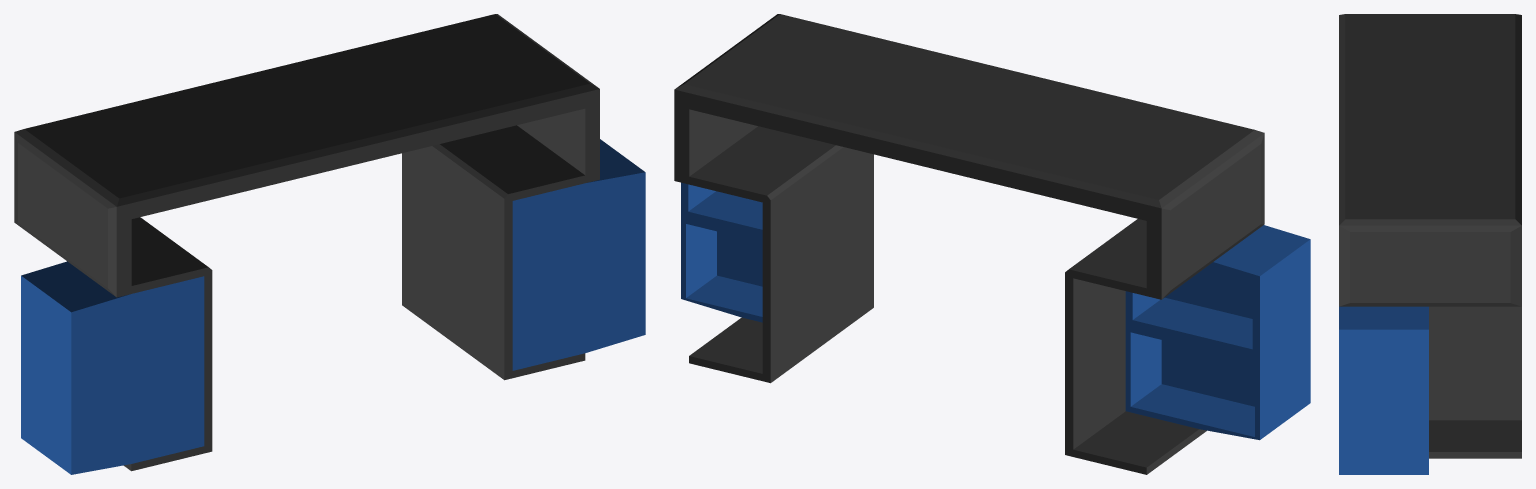
The model's file is Shelf 9.fbx.
The picture shows the model from 3 angles, left to right: view 1: azimuth 30°, elevation 25°; view 2: azimuth 150°, elevation 25°; view 3: azimuth 270°, elevation 25°; orthographic projection. The views are drawn at different scales.
Visible parts, largest first — view 1: Node 0; view 2: Node 0; view 3: Node 0.
Boxes of the visible parts, box(x1,y1,x2,y2) form: Node 0: box(14, 14, 645, 474); Node 0: box(674, 14, 1310, 474); Node 0: box(1339, 14, 1521, 474).
Size of the model in its own units: 0.7348 by 1.08 by 2.38.
